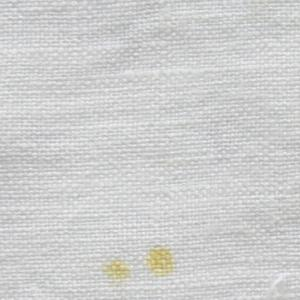Stain: (103, 243, 185, 284)
